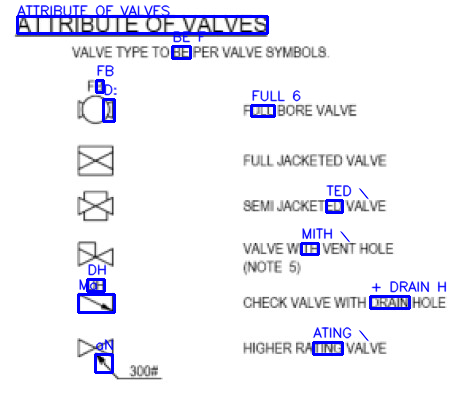Válvula: (73, 188, 119, 225), (75, 141, 117, 180), (74, 92, 119, 124), (75, 238, 118, 269), (75, 291, 117, 315), (75, 336, 116, 360)
